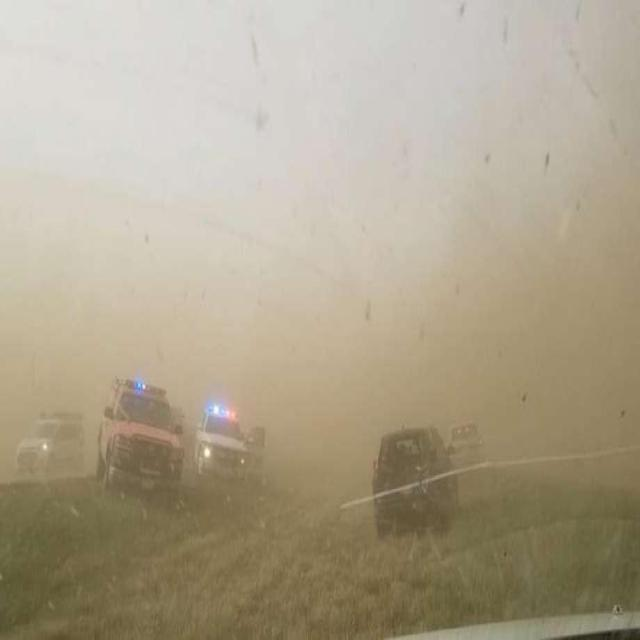Car: (371, 427, 458, 527)
